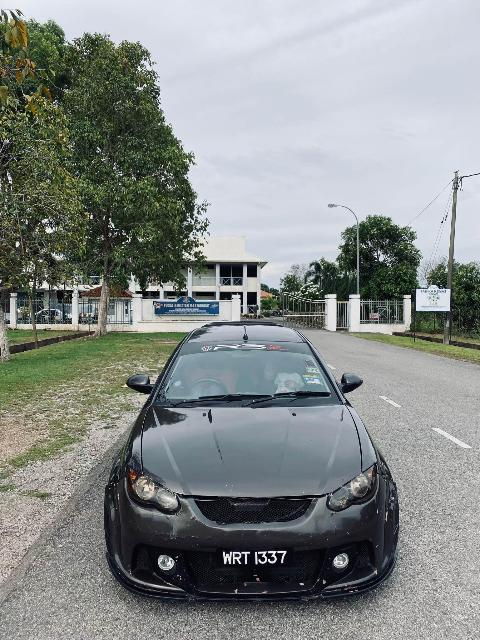License_Plate: (216, 544, 300, 575)
car: (108, 318, 401, 608)
